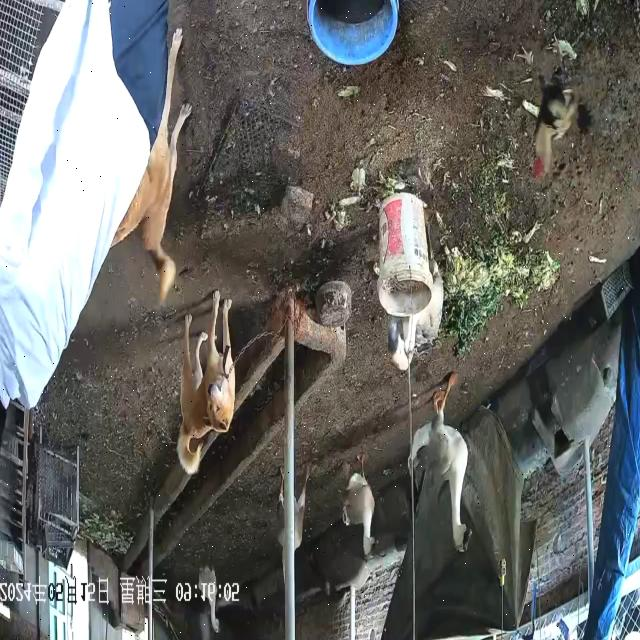dog: (110, 28, 194, 306), (177, 291, 237, 477)
